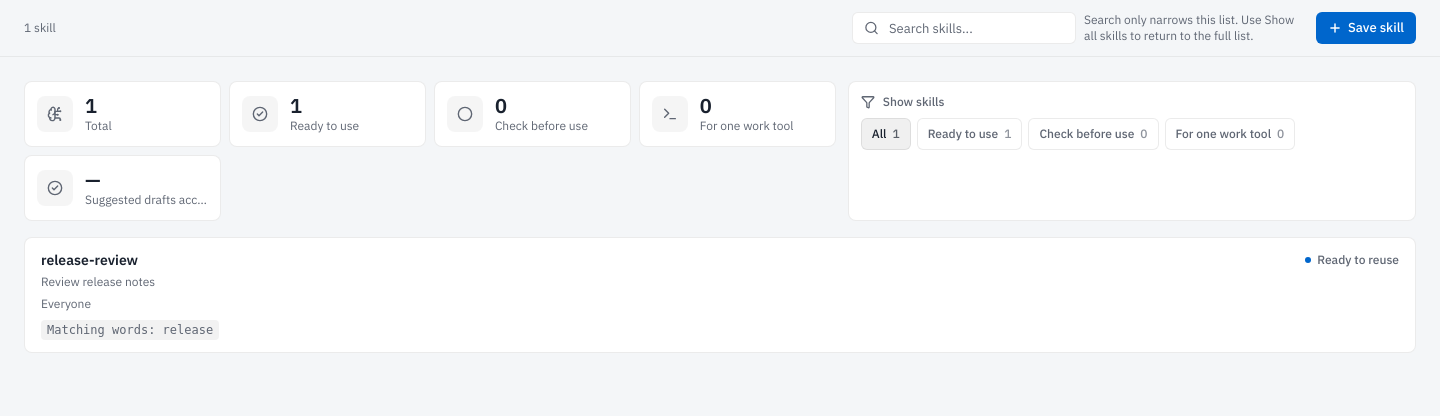
Test: Skills toolbar status › explains when a filter hides every saved guidance item
Expected: the text "release-review" is shown, [41,251,138,269]
Step 1. Click the button with aria-label "show skills for one work tool, 0 matching skills" → x=1230, y=134, box [1165,118,1295,150]
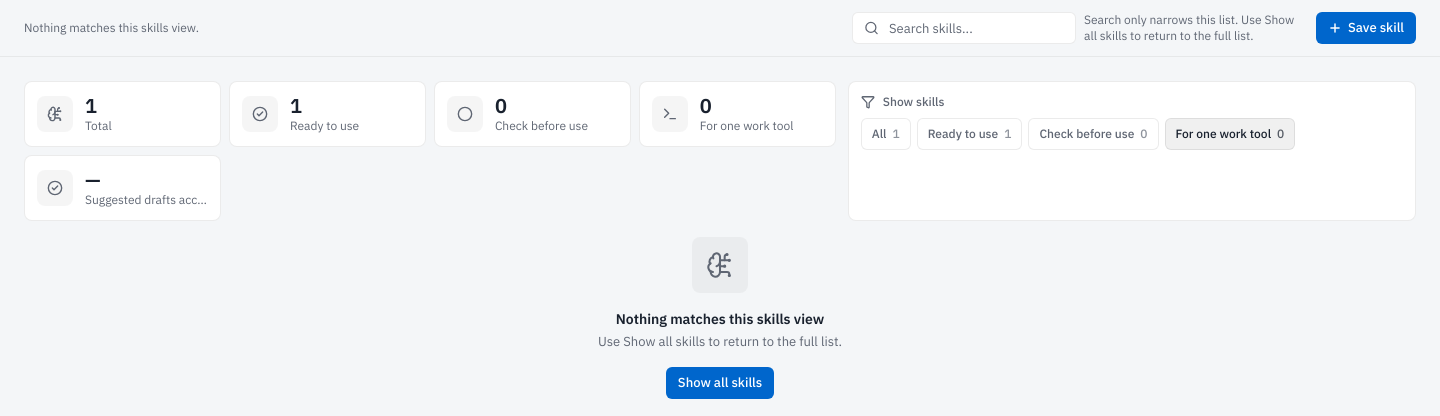
Result: the text "Nothing matches this skills view." is shown at [24,20,199,36]
Result: the text "Nothing matches this skills view" is shown at [598,309,842,329]
Result: the text "Use Show all skills to return to the full list." is shown at [598,333,842,351]
Step 2. Click the button "Show all skills" → x=720, y=383, box [666,367,774,399]
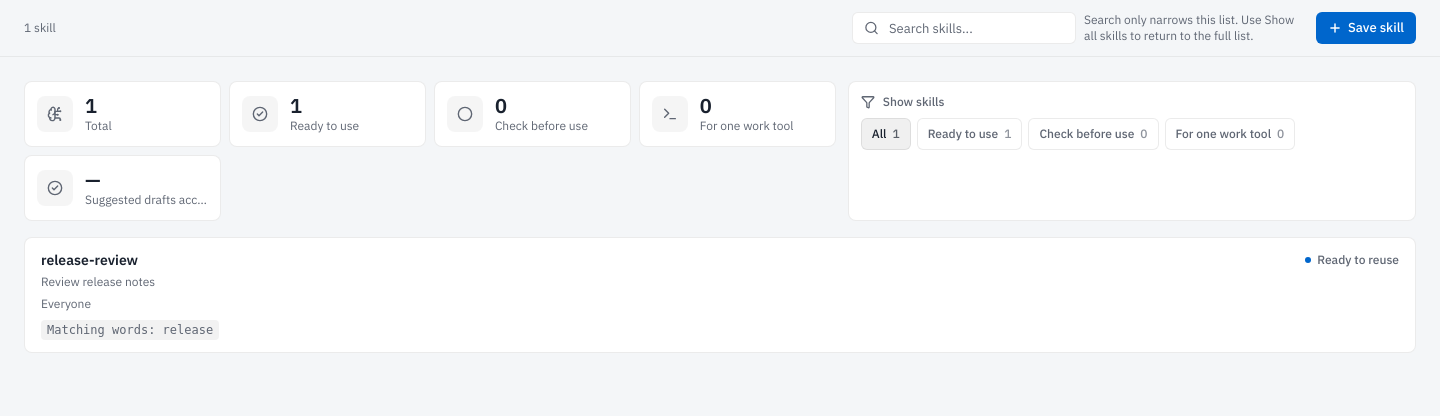
Result: the text "release-review" is shown at [41,251,138,269]
